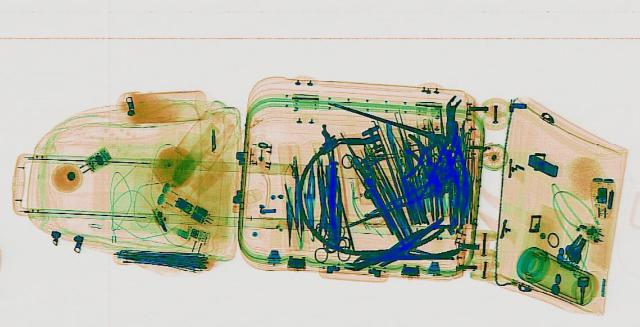Scissors: (334, 152, 378, 189), (312, 219, 351, 259)
